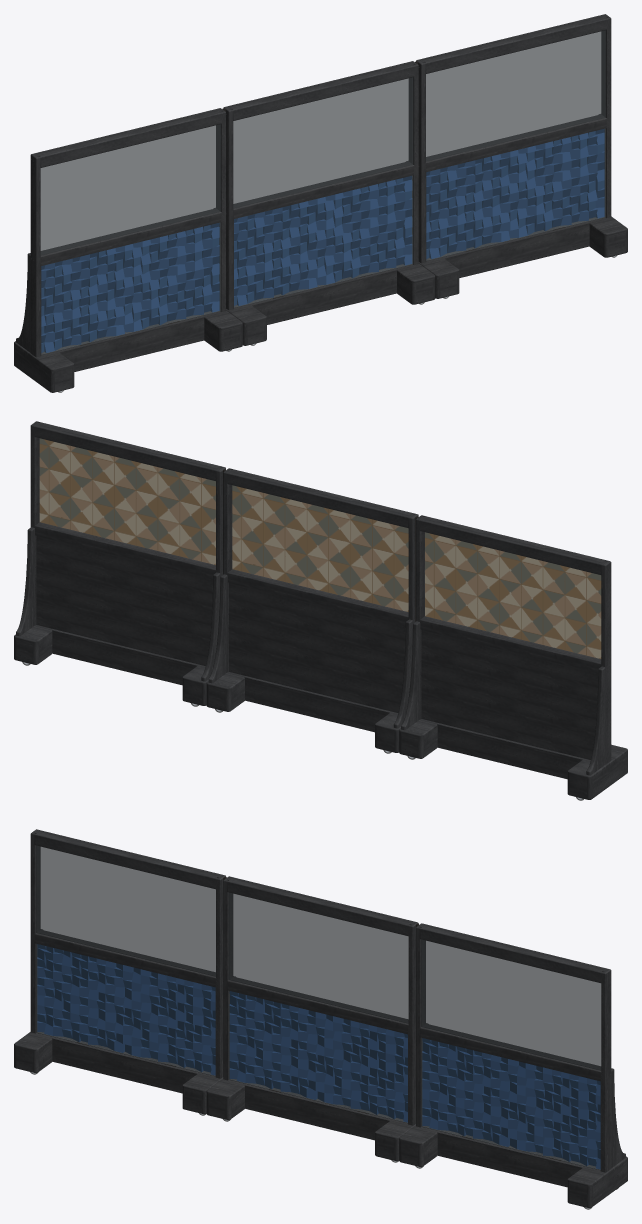
File: v10-linen-marquetry-carbon-oak-three.glb
3 views of the same model, one above another, from view 1: azimuth 30°, elevation 25°; view 2: azimuth 150°, elevation 25°; view 3: azimuth 330°, elevation 25° (orthographic).
Parts seen in each view (by area): view 1: Left Wood, Left Linen Marquetry reverse, Linen Marquetry reverse, Right Linen Marquetry reverse, Cover glass, Right Navy Everwood relief, Left Navy Everwood relief, Navy Everwood relief, Right Cover glass, Left Cover glass, Right Wood, Wood; view 2: Left Wood, Wood, Right Wood, Linen Marquetry print, Right Linen Marquetry print, Left Linen Marquetry print; view 3: Right Wood, Linen Marquetry reverse, Right Linen Marquetry reverse, Left Linen Marquetry reverse, Cover glass, Left Navy Everwood relief, Right Navy Everwood relief, Navy Everwood relief, Right Cover glass, Left Cover glass, Left Wood, Wood.
Boxes of the visible parts, box(x1,y1,x2,y2) form: Left Wood: box(14, 108, 242, 392); Left Linen Marquetry reverse: box(40, 124, 220, 255); Linen Marquetry reverse: box(233, 77, 413, 208); Right Linen Marquetry reverse: box(426, 30, 605, 161); Cover glass: box(234, 176, 412, 306); Right Navy Everwood relief: box(426, 128, 604, 258); Left Navy Everwood relief: box(41, 223, 219, 352); Navy Everwood relief: box(234, 175, 412, 305); Right Cover glass: box(427, 129, 604, 259); Left Cover glass: box(42, 223, 219, 353); Right Wood: box(416, 14, 627, 298); Wood: box(223, 61, 435, 345); Left Wood: box(399, 515, 627, 799); Wood: box(206, 468, 418, 752); Right Wood: box(14, 421, 225, 705); Linen Marquetry print: box(232, 485, 408, 611); Right Linen Marquetry print: box(39, 438, 215, 564); Left Linen Marquetry print: box(425, 532, 601, 658); Right Wood: box(399, 923, 627, 1207); Linen Marquetry reverse: box(228, 892, 408, 1023); Right Linen Marquetry reverse: box(421, 940, 601, 1070); Left Linen Marquetry reverse: box(36, 846, 215, 976); Cover glass: box(229, 991, 407, 1122); Left Navy Everwood relief: box(37, 944, 215, 1075); Right Navy Everwood relief: box(422, 1038, 600, 1169); Navy Everwood relief: box(229, 991, 407, 1122); Right Cover glass: box(422, 1038, 599, 1169); Left Cover glass: box(37, 944, 214, 1075); Left Wood: box(14, 829, 225, 1114); Wood: box(206, 876, 418, 1161).
Bounding box in the file's own units: 5.03 × 1.91 × 0.5842.
Materials: 10 (2 with a texture image).
